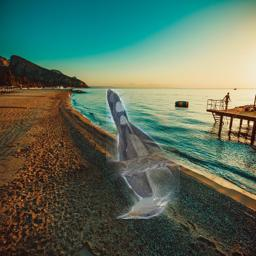Cuckoo: (106, 89, 180, 219)
